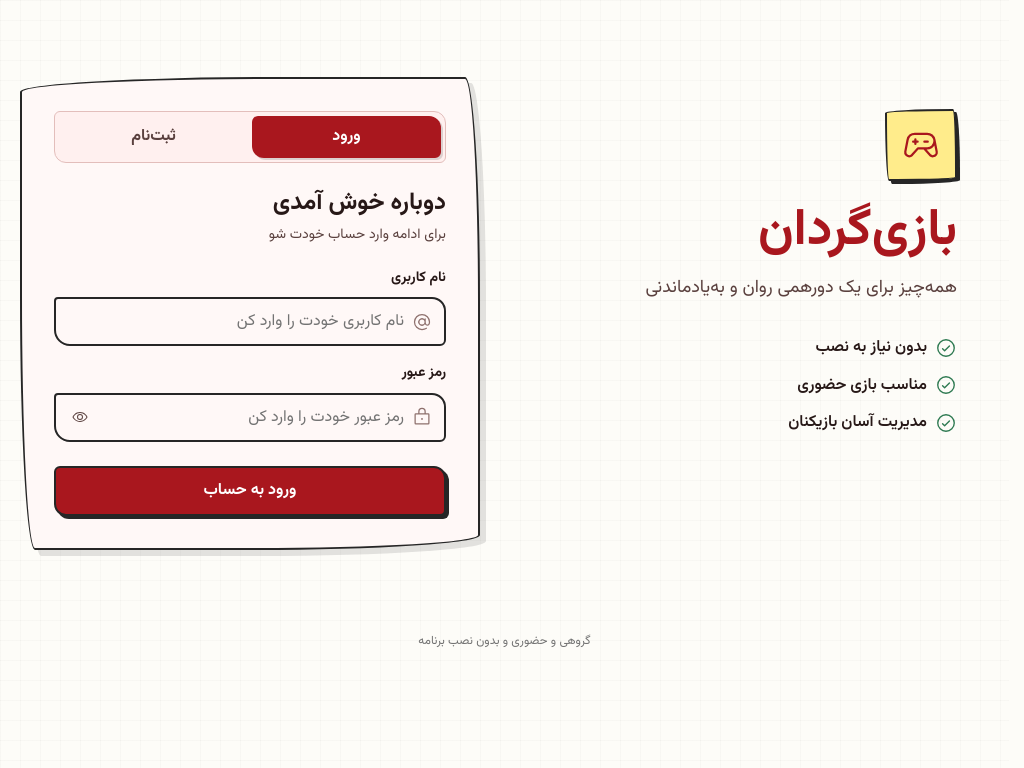
Test case: AuthPage - login mode › shows a validation error for a too-short username
The width and height of the screenshot is (1024, 768).
Type "ab" into the field labelled "نام کاربری" at (236, 322), box [68, 299, 404, 344]
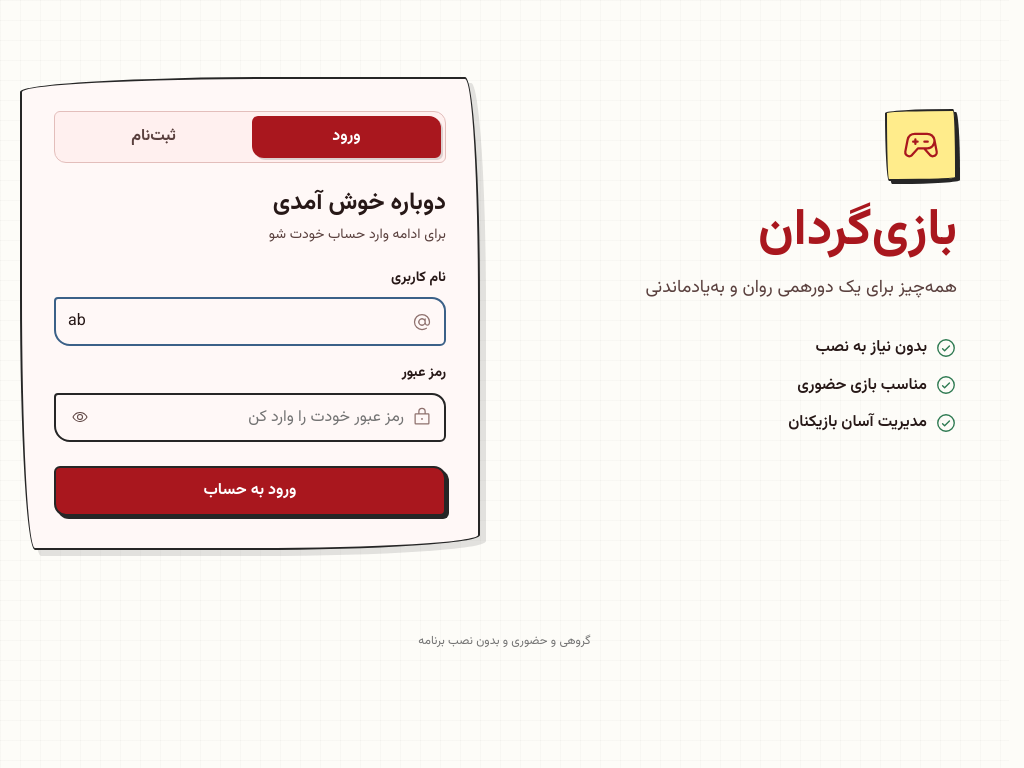
Type "longenoughpass" into the password field labelled "رمز عبور" at (257, 417), box [110, 395, 404, 440]
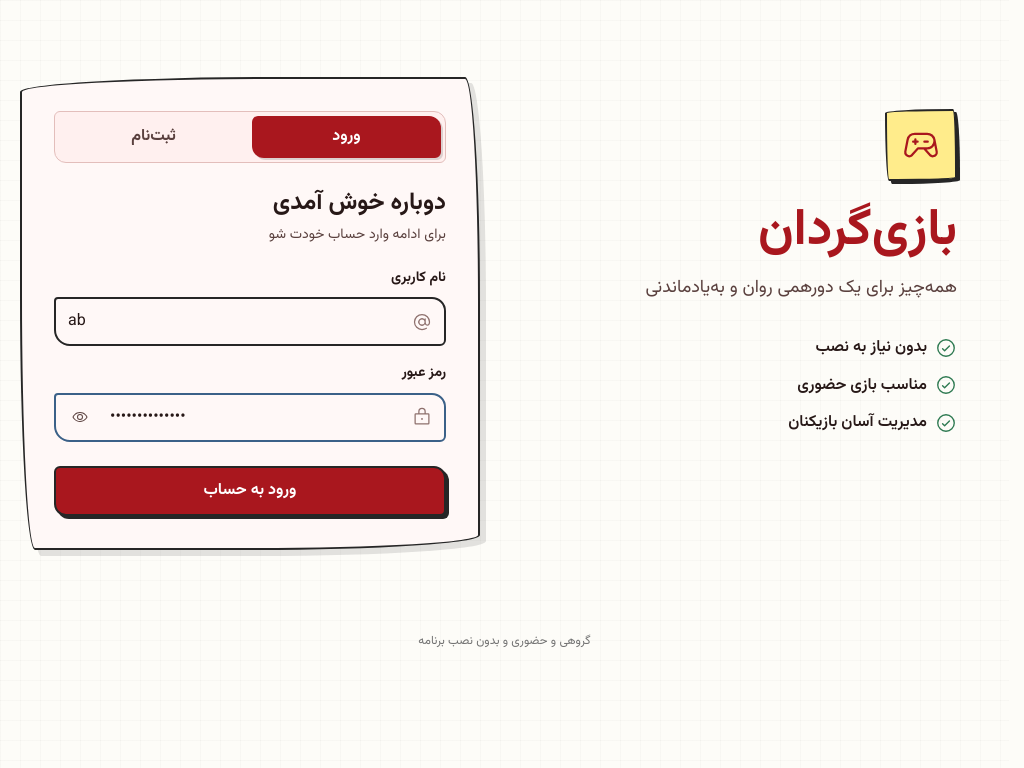
Click the button "ورود به حساب" at (250, 491), box [54, 466, 446, 516]
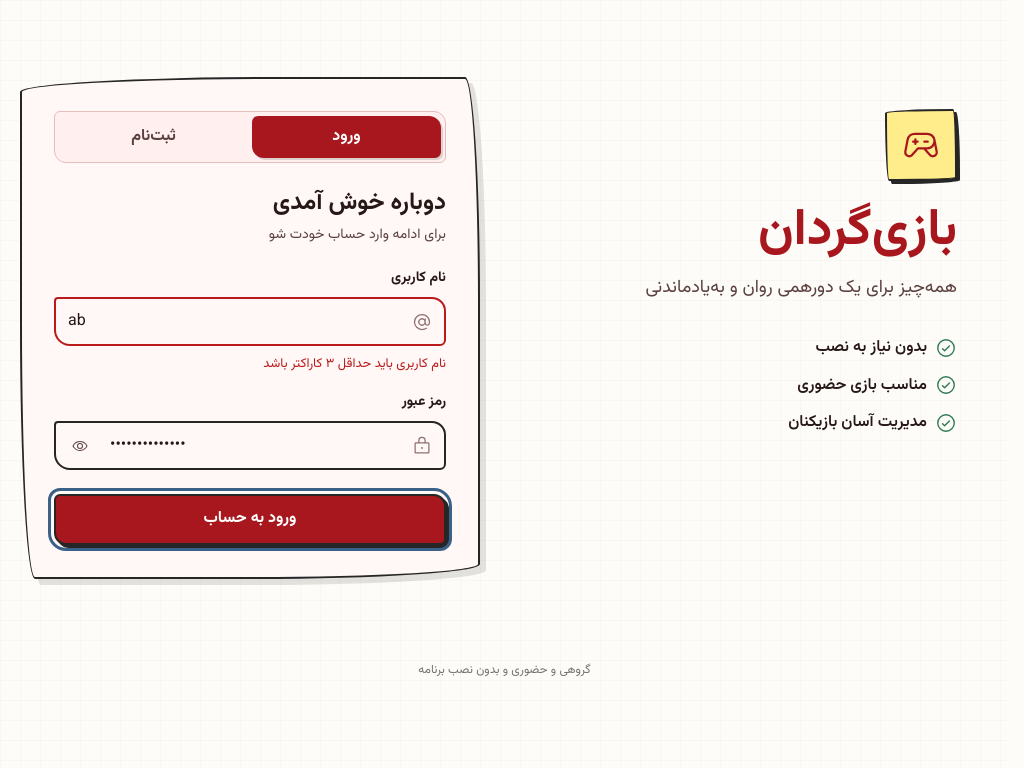
Check: the text "نام کاربری باید حداقل ۳ کاراکتر باشد" is shown, box [263, 354, 446, 374]
